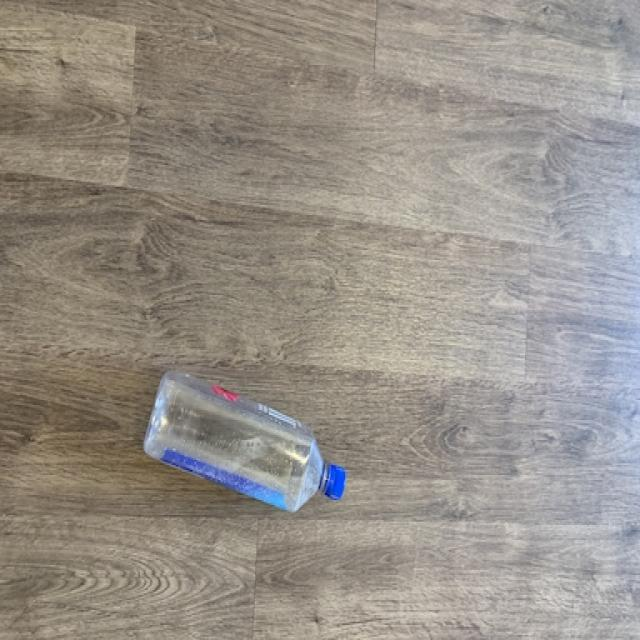Waste: (144, 372, 345, 512)
